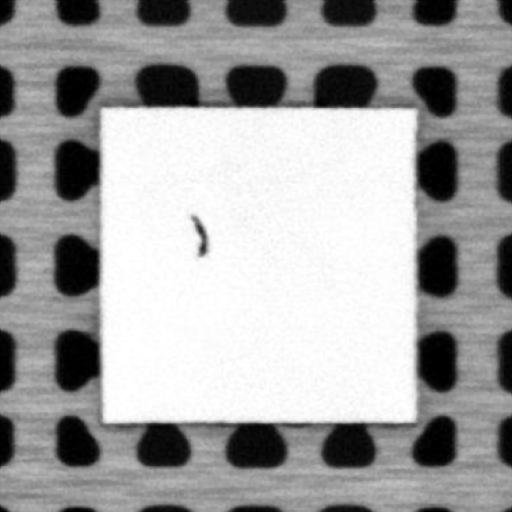DIE_INK: (187, 211, 209, 255)
